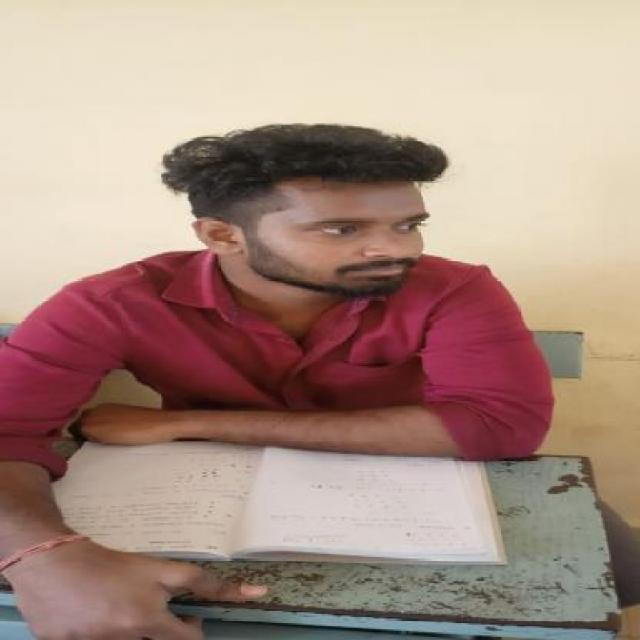cheating: (7, 115, 570, 576)
